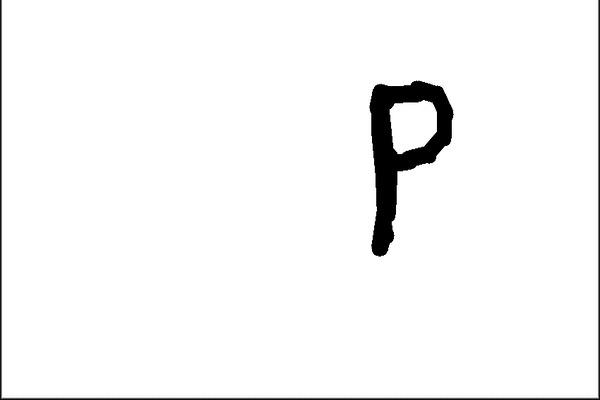P: (344, 68, 462, 265)
